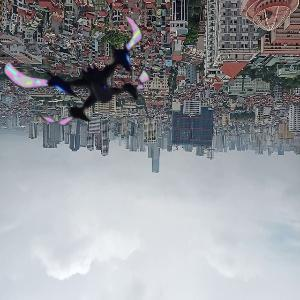drone: (22, 3, 163, 144)
